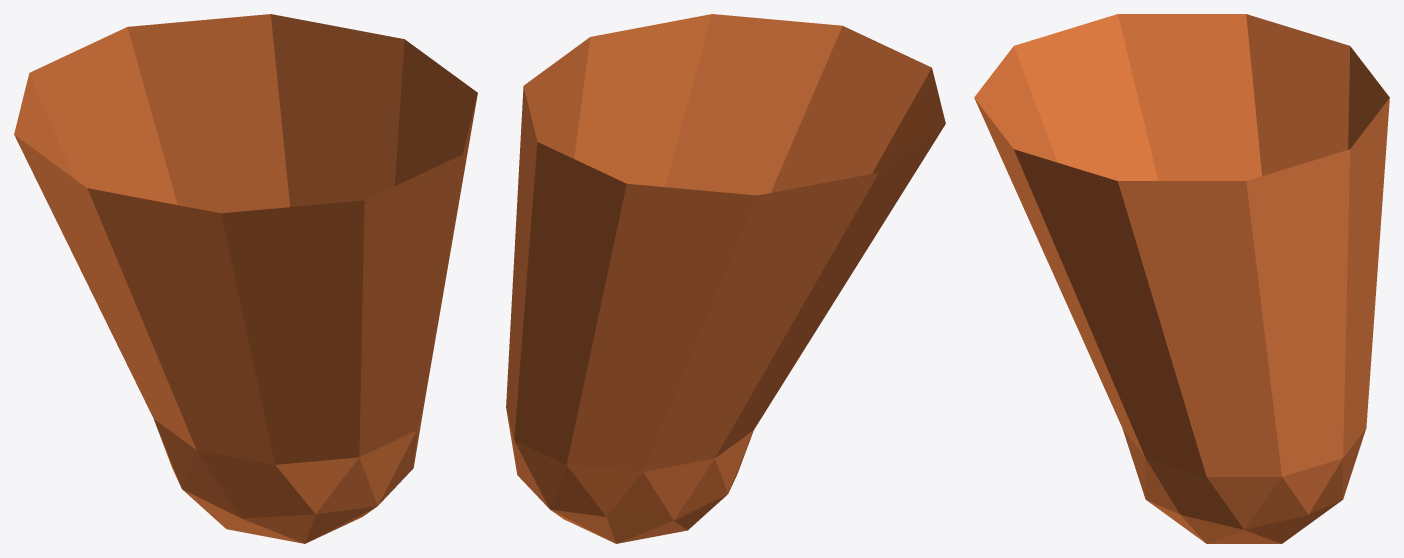
The model's file is meteorEffect.dae.
3 renders of one model, left to right at view 1: azimuth 30°, elevation 25°; view 2: azimuth 150°, elevation 25°; view 3: azimuth 270°, elevation 25°, orthographic. The views are drawn at different scales.
Parts seen in each view (by area): view 1: meteorEffect; view 2: meteorEffect; view 3: meteorEffect.
Part boxes in pixels (x1,y1,x2,y2): meteorEffect: [14, 14, 477, 543]; meteorEffect: [506, 14, 945, 543]; meteorEffect: [974, 14, 1389, 543].
Size of the model in its own units: 324 by 341 by 368.
